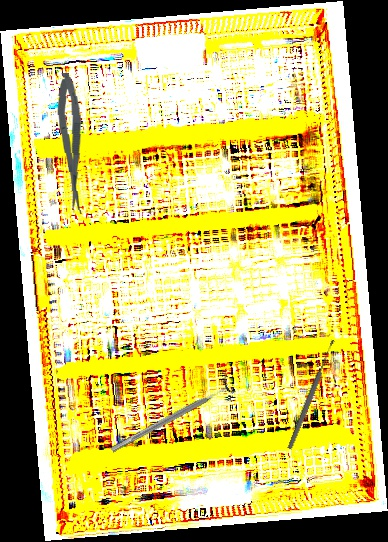Fixation Ring: (106, 374, 237, 459)
Micro Scissor: (55, 72, 86, 215)
Surgical Spoon: (286, 338, 337, 451)
